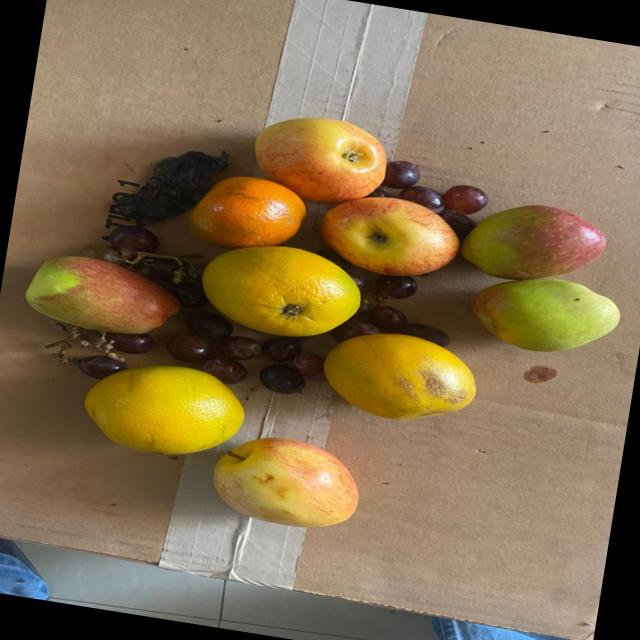bolsa_negra: (122, 140, 226, 234)
